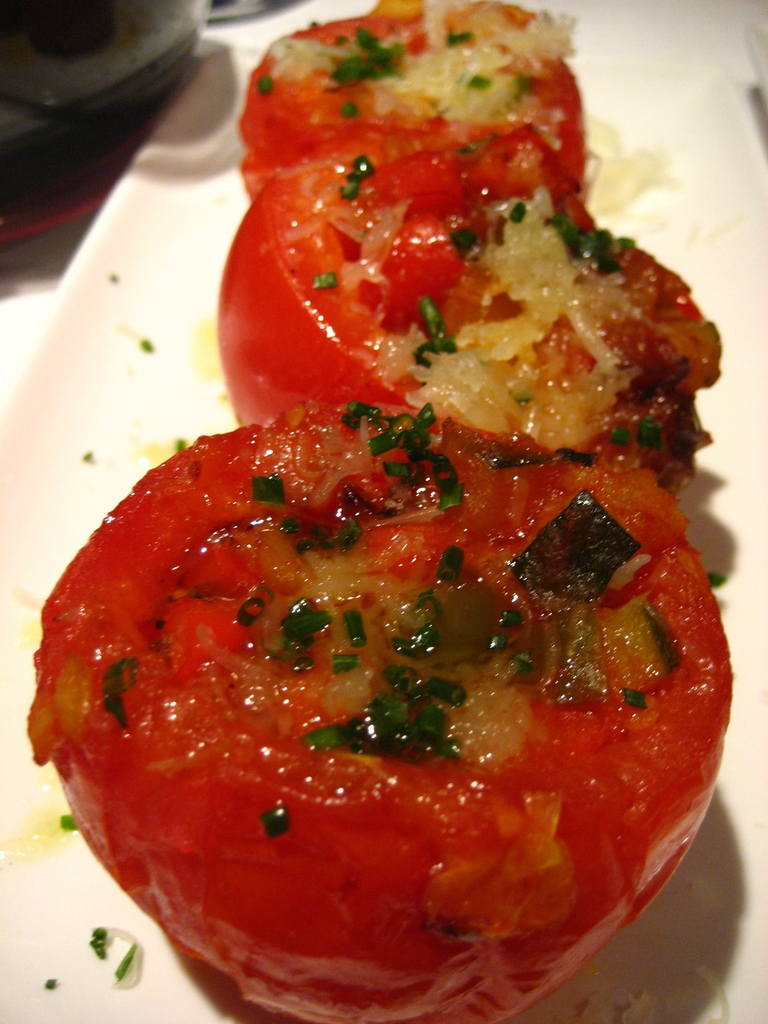Tomato: (23, 403, 744, 1023), (218, 142, 729, 456), (238, 0, 600, 192)
